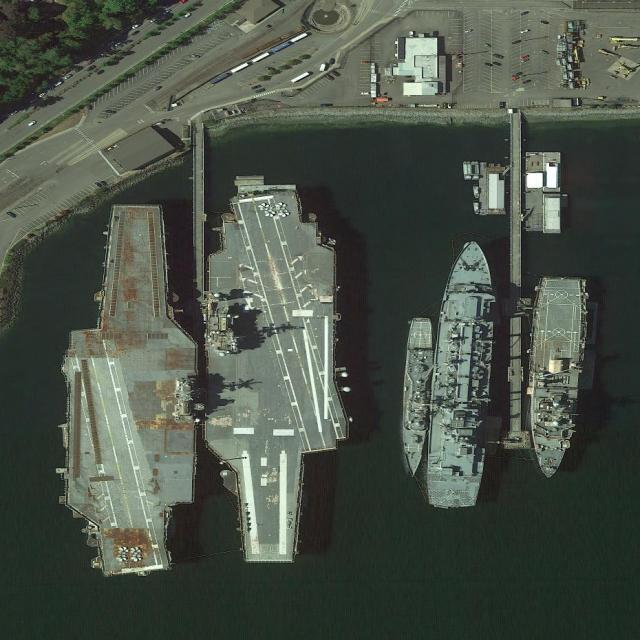Aircraft Carrier: (204, 186, 348, 562), (61, 204, 199, 577)
Dock: (503, 116, 529, 449), (189, 122, 205, 318)
Frigate: (398, 314, 436, 478)
Landing: (524, 275, 586, 480)
Other Warship: (421, 236, 504, 513)
